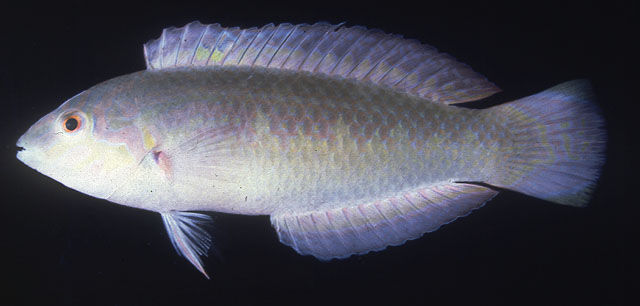fish: (15, 20, 607, 280)
